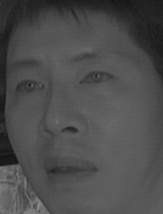eye: (76, 70, 117, 91), (10, 78, 46, 97)
mouth: (41, 150, 101, 187)
